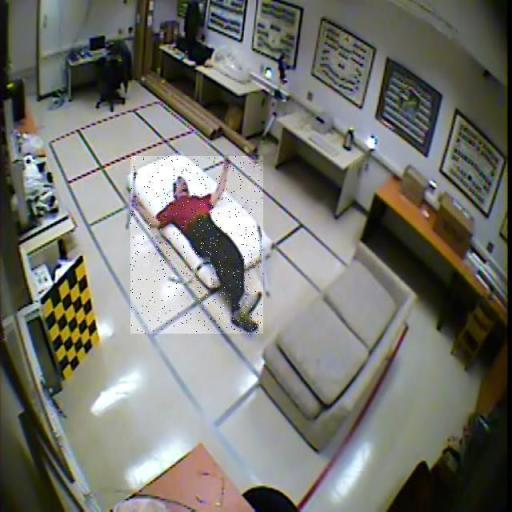Fall: (131, 156, 264, 334)
